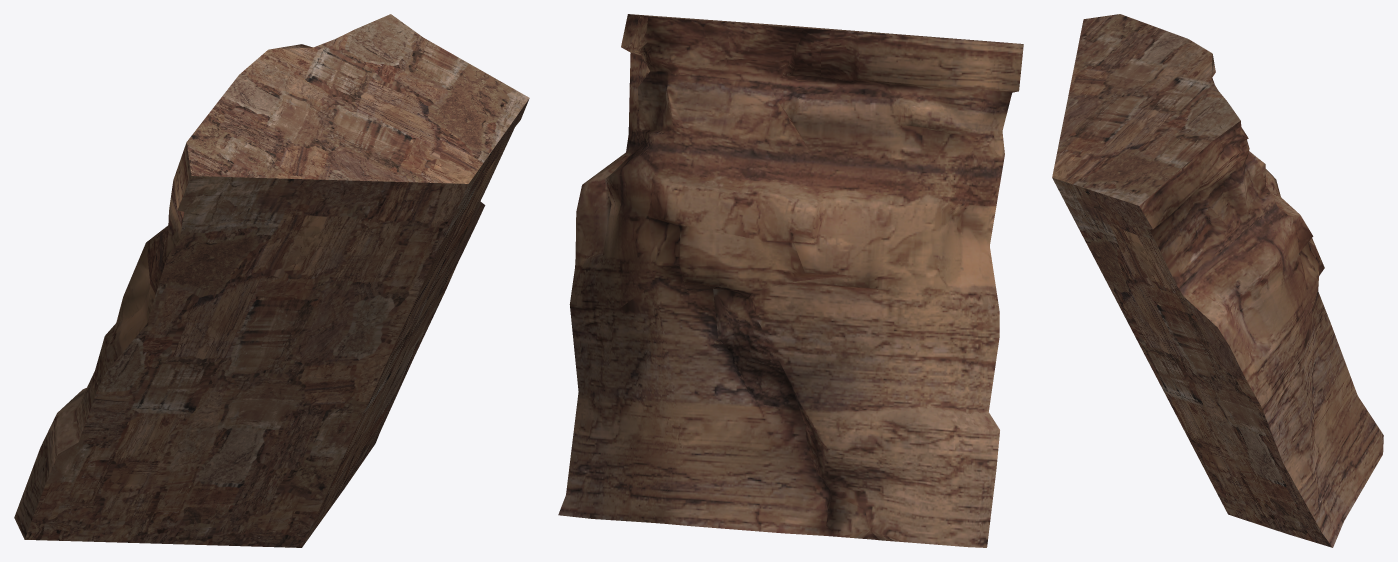
Rendered from Mesh_Cliff_Corner_01_AS.fbx.
3 renders of one model, left to right at view 1: azimuth 30°, elevation 25°; view 2: azimuth 150°, elevation 25°; view 3: azimuth 270°, elevation 25°, orthographic. The views are drawn at different scales.
Visible parts, largest first — view 1: Mesh_Cliff_Corner_01_AS; view 2: Mesh_Cliff_Corner_01_AS; view 3: Mesh_Cliff_Corner_01_AS.
Boxes of the visible parts, box(x1,y1,x2,y2) form: Mesh_Cliff_Corner_01_AS: box(14, 14, 529, 547); Mesh_Cliff_Corner_01_AS: box(558, 14, 1023, 547); Mesh_Cliff_Corner_01_AS: box(1052, 14, 1383, 547).
Bounding box in the file's own units: 6469 × 7296 × 4950.
